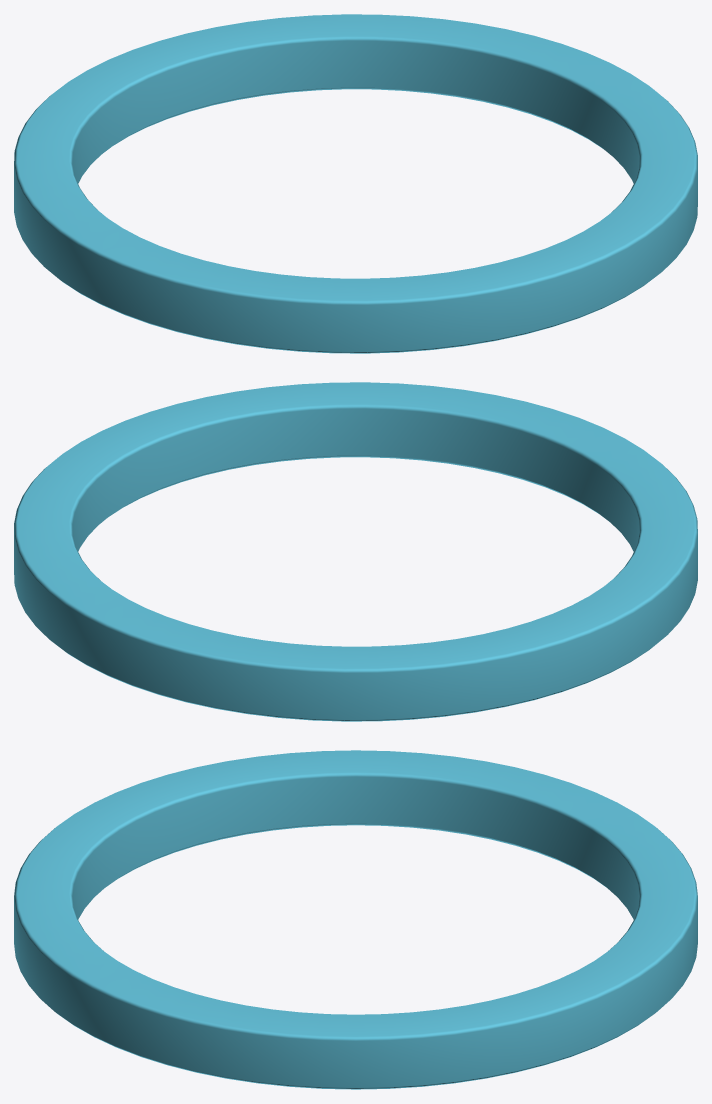
3 renders of one model, top to bottom at view 1: azimuth 30°, elevation 25°; view 2: azimuth 150°, elevation 25°; view 3: azimuth 270°, elevation 25°, orthographic.
Parts seen in each view (by area): view 1: seal_body; view 2: seal_body; view 3: seal_body.
Part boxes in pixels (bbox=[...]): seal_body: bbox=[14, 14, 697, 353]; seal_body: bbox=[14, 382, 697, 721]; seal_body: bbox=[14, 750, 697, 1089].
Size of the model in its own units: 0.1111 by 0.00952 by 0.1111.
